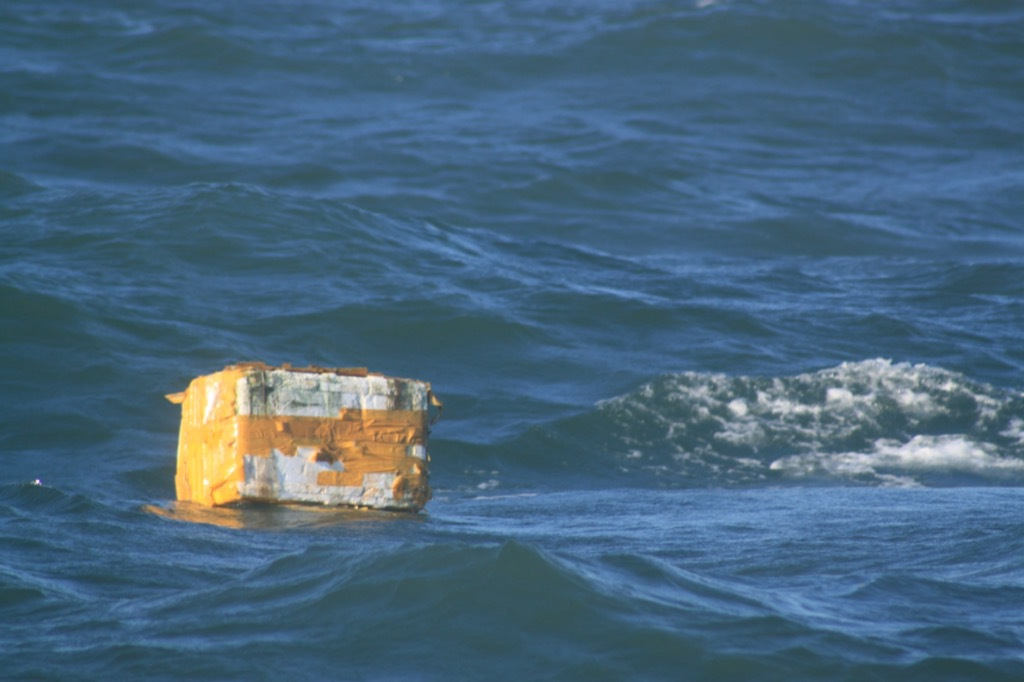plastic: (104, 330, 490, 587)
